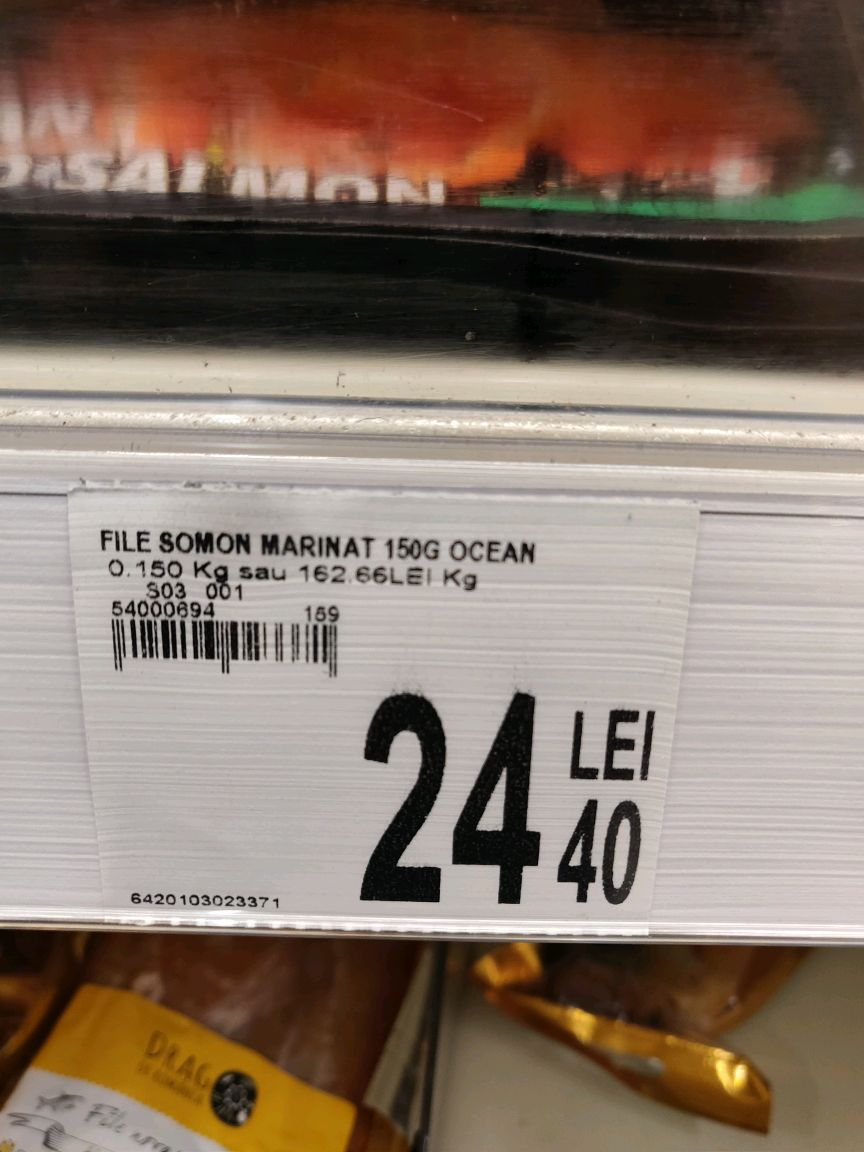price_bani: (546, 794, 651, 916)
price_lei: (348, 680, 552, 923)
price_tag: (56, 477, 683, 945)
product_id: (116, 883, 295, 920)
product_name: (84, 520, 572, 568)
